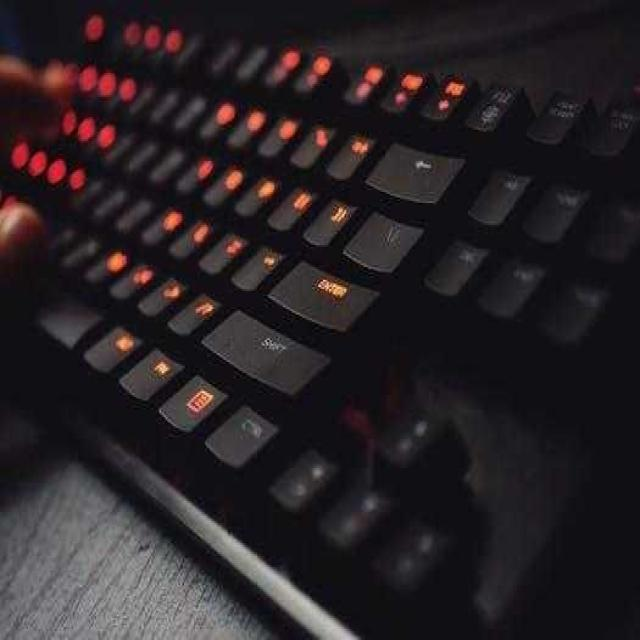keyboard: (3, 9, 638, 635)
